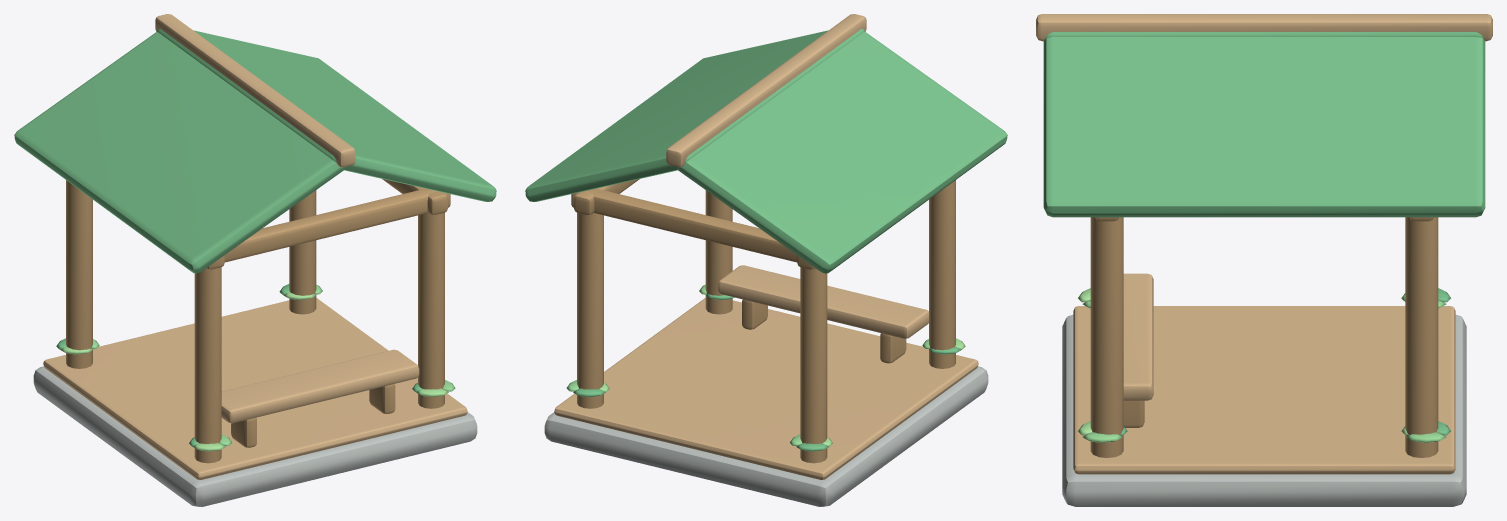
File: gazebo_summer_v1.glb
3 renders of one model, left to right at view 1: azimuth 30°, elevation 25°; view 2: azimuth 150°, elevation 25°; view 3: azimuth 270°, elevation 25°, orthographic. The views are drawn at different scales.
Visible parts, largest first — view 1: Base_Roof (×2), Base_Floor, Base_Column (×4), Base_Foundation, Base_BackBench, Base_Beam (×2), Base_Ridge, Base_BenchLeg (×2), Season_LeafSprig; view 2: Base_Roof (×2), Base_Floor, Base_Column (×4), Base_Foundation, Base_BackBench, Base_Beam (×2), Base_Ridge, Base_BenchLeg (×2), Season_LeafSprig; view 3: Base_Roof (×2), Base_Floor, Base_Foundation, Base_Column (×2), Base_Ridge, Base_BackBench, Season_LeafSprig, Base_BenchLeg.
Boxes of the visible parts, box(x1,y1,x2,y2) form: Base_Roof (×2): box(14, 29, 496, 273); Base_Floor: box(43, 298, 467, 479); Base_Column (×4): box(66, 180, 444, 463); Base_Foundation: box(33, 366, 477, 506); Base_BackBench: box(221, 349, 419, 423); Base_Beam (×2): box(224, 179, 450, 262); Base_Ridge: box(155, 14, 355, 167); Base_BenchLeg (×2): box(231, 384, 395, 447); Season_LeafSprig: box(60, 292, 448, 451); Base_Roof (×2): box(525, 29, 1007, 273); Base_Floor: box(554, 298, 978, 479); Base_Column (×4): box(577, 180, 955, 463); Base_Foundation: box(544, 366, 988, 506); Base_BackBench: box(718, 265, 928, 338); Base_Beam (×2): box(571, 179, 797, 262); Base_Ridge: box(666, 14, 866, 167); Base_BenchLeg (×2): box(742, 299, 906, 363); Season_LeafSprig: box(573, 294, 961, 451); Base_Roof (×2): box(1043, 32, 1485, 217); Base_Floor: box(1073, 306, 1455, 474); Base_Foundation: box(1062, 315, 1466, 506); Base_Column (×2): box(1090, 217, 1438, 457); Base_Ridge: box(1036, 14, 1492, 41); Base_BackBench: box(1123, 273, 1153, 400); Season_LeafSprig: box(1082, 300, 1446, 442); Base_BenchLeg: box(1123, 400, 1144, 427).
Bounding box in the file's own units: 2.89 × 3.02 × 3.05.
